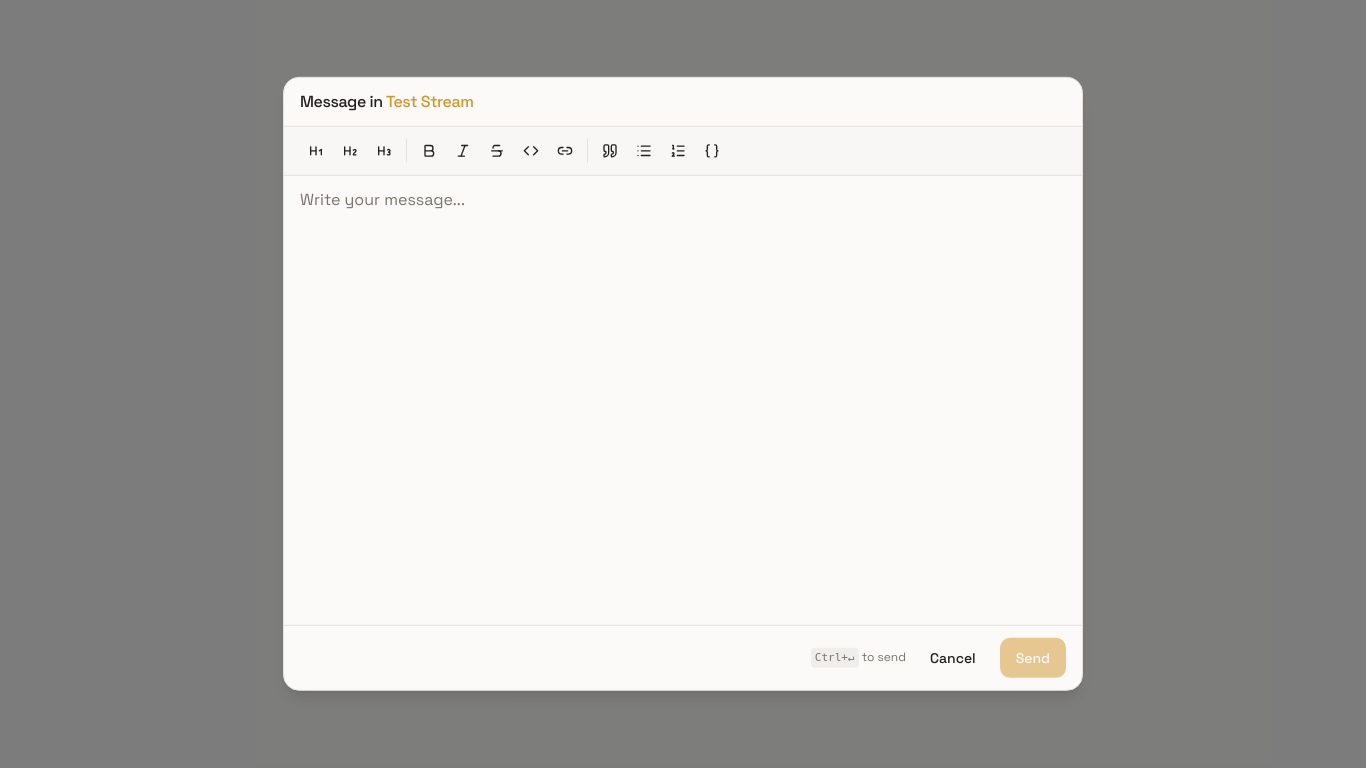
DocumentEditorModal › rendering › should omit formatting hints that are disabled by a conflicting global shortcut
Hover over the button named "Bold": (429, 151) [413, 135, 445, 167]
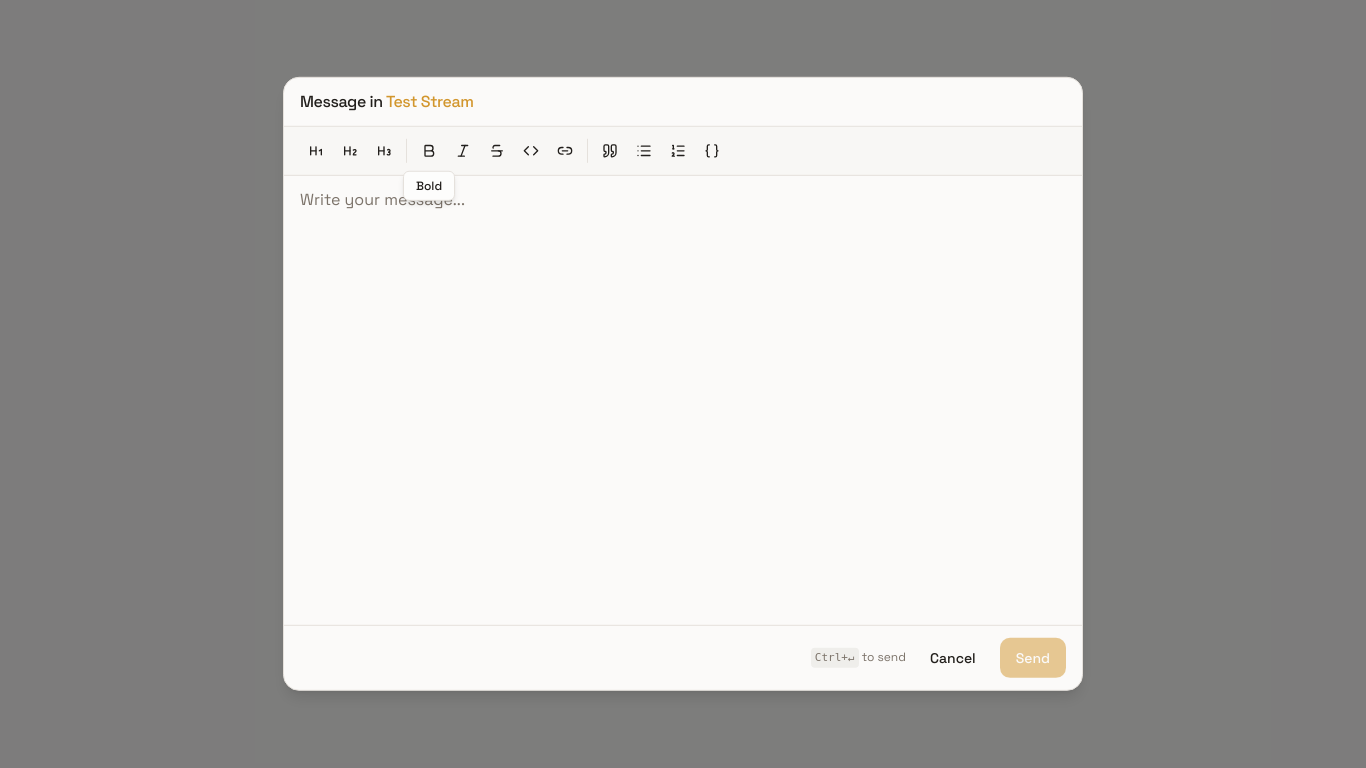
Now the text "Bold" is shown, box [416, 178, 442, 194]
